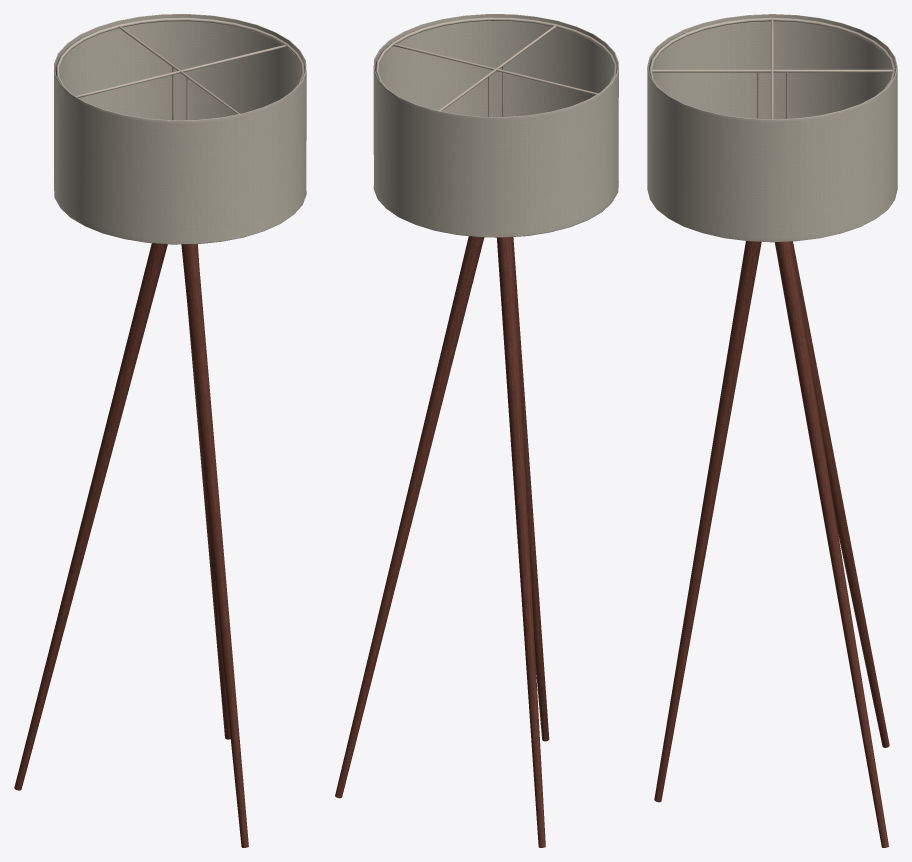
File: lamp_B0742F7GT8.glb
3 renders of one model, left to right at view 1: azimuth 30°, elevation 25°; view 2: azimuth 150°, elevation 25°; view 3: azimuth 270°, elevation 25°, orthographic. The views are drawn at different scales.
Parts seen in each view (by area): view 1: RootNode; view 2: RootNode; view 3: RootNode.
Part boxes in pixels (box(x1,y1,x2,y2)): RootNode: box(14, 14, 306, 847); RootNode: box(335, 14, 618, 847); RootNode: box(647, 14, 897, 847).
Size of the model in its own units: 0.4833 by 1.55 by 0.4826.
Materials: 1 (1 with a texture image).
